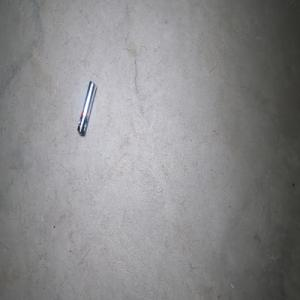Battery: (76, 80, 96, 136)
